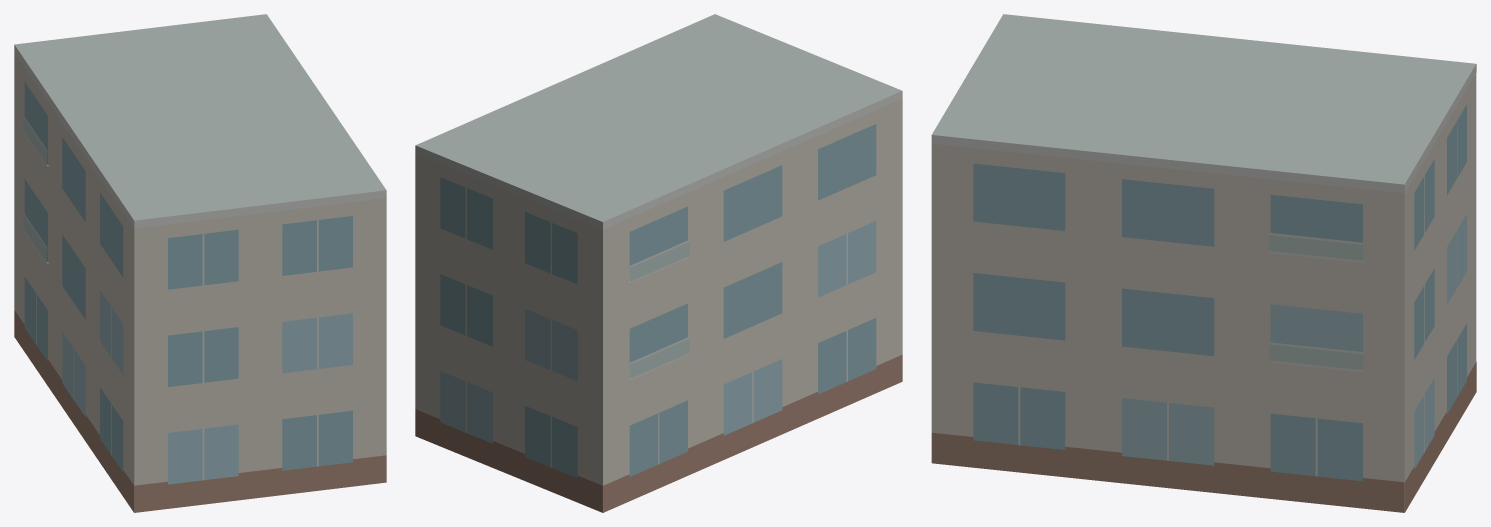
Rendered from survey-upis-32831618.glb.
3 renders of one model, left to right at view 1: azimuth 30°, elevation 25°; view 2: azimuth 150°, elevation 25°; view 3: azimuth 270°, elevation 25°, orthographic. The views are drawn at different scales.
Parts seen in each view (by area): view 1: survey-upis-32831618.tmp; view 2: survey-upis-32831618.tmp; view 3: survey-upis-32831618.tmp.
Part boxes in pixels (left/top/right/bottom): survey-upis-32831618.tmp: left=14, top=14, right=386, bottom=512; survey-upis-32831618.tmp: left=415, top=14, right=902, bottom=512; survey-upis-32831618.tmp: left=931, top=14, right=1476, bottom=512.
Bounding box in the file's own units: 10.2 × 9.15 × 13.77.
